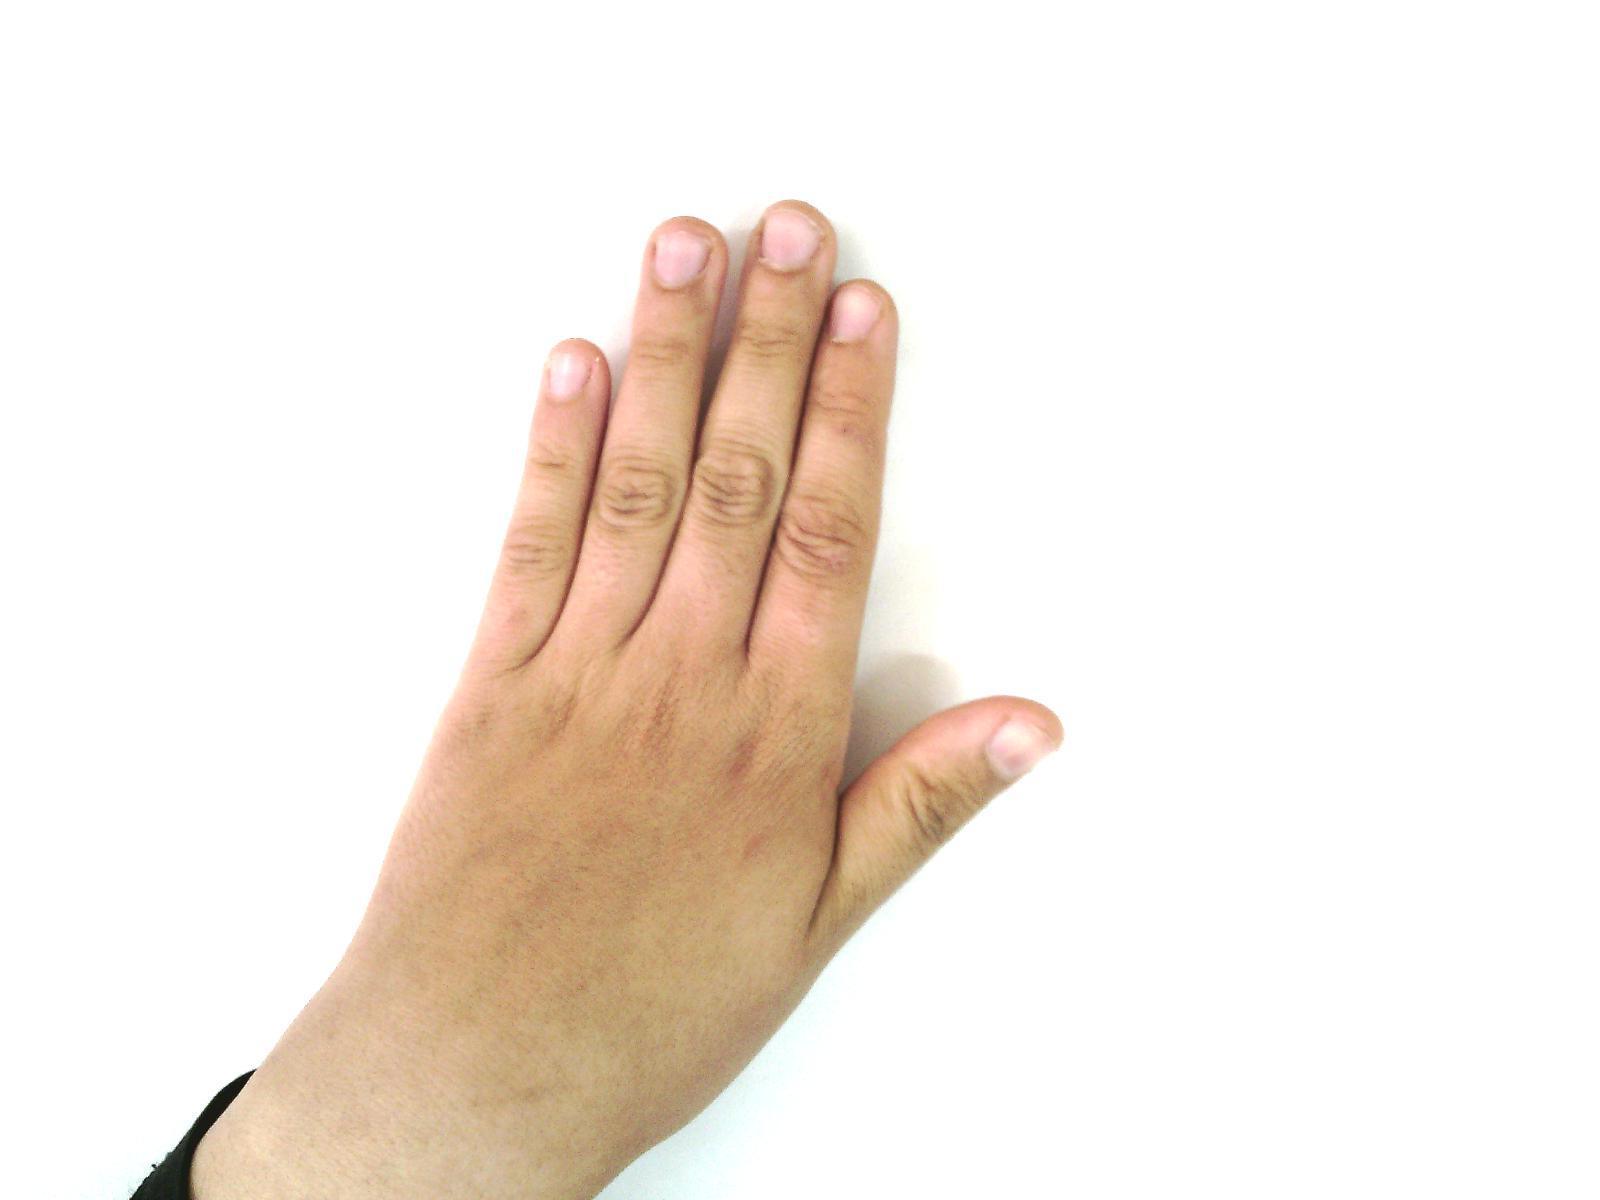hand: (423, 195, 1077, 1142)
